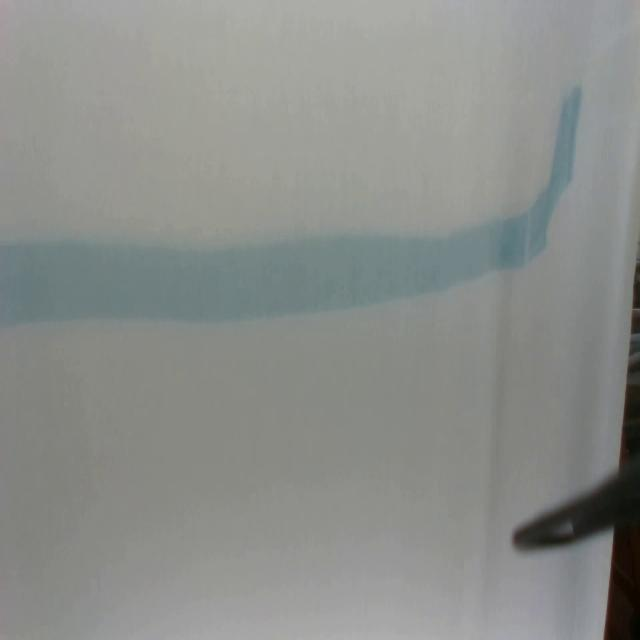color bleeding: (0, 83, 585, 338)
